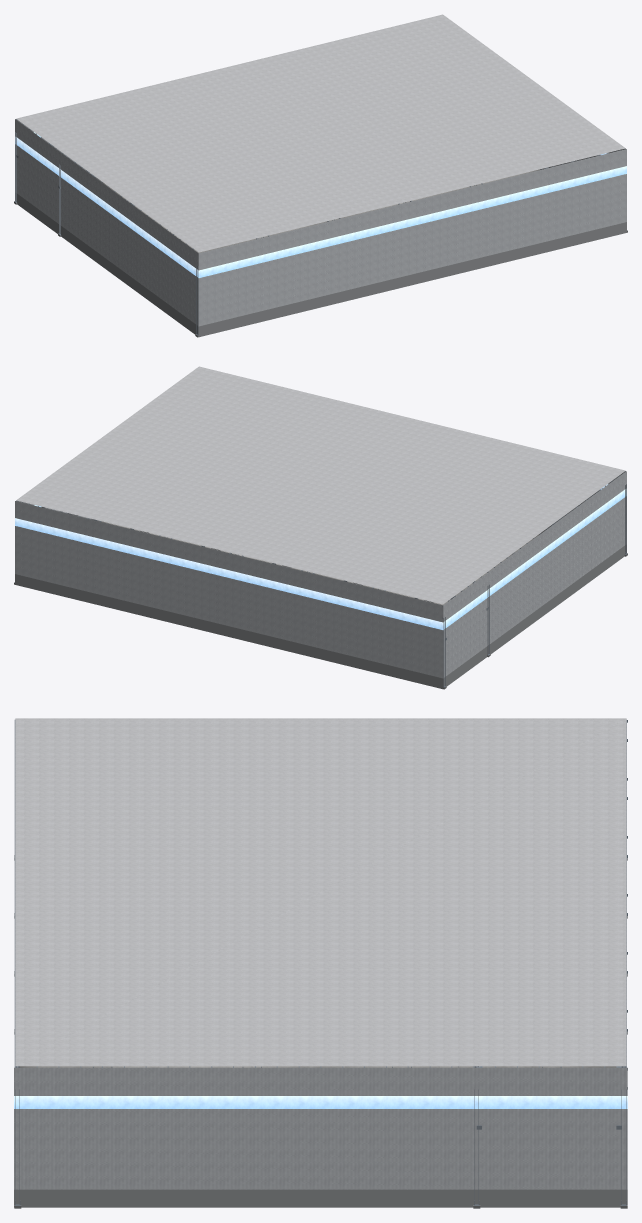
File: galpao_edge_city.glb
The picture shows the model from 3 angles, top to bottom: view 1: azimuth 30°, elevation 25°; view 2: azimuth 150°, elevation 25°; view 3: azimuth 270°, elevation 25°; orthographic projection. The views are drawn at different scales.
Parts seen in each view (by area): view 1: Galpao_Cobertura, Galpao_Paredes, Galpao_Concreto, Galpao_Janelas, Galpao_Estrutura, Galpao_Piso; view 2: Galpao_Cobertura, Galpao_Paredes, Galpao_Concreto, Galpao_Janelas, Galpao_Estrutura, Galpao_Piso; view 3: Galpao_Cobertura, Galpao_Paredes, Galpao_Concreto, Galpao_Janelas, Galpao_Estrutura, Galpao_Piso.
Part boxes in pixels (<box>): Galpao_Cobertura: <box>16,14,625,252</box>; Galpao_Paredes: <box>15,119,626,326</box>; Galpao_Concreto: <box>14,167,627,337</box>; Galpao_Janelas: <box>15,132,626,277</box>; Galpao_Estrutura: <box>15,119,624,334</box>; Galpao_Piso: <box>102,169,539,253</box>; Galpao_Cobertura: <box>16,366,625,604</box>; Galpao_Paredes: <box>15,471,626,678</box>; Galpao_Concreto: <box>14,519,627,689</box>; Galpao_Janelas: <box>15,484,626,629</box>; Galpao_Estrutura: <box>17,471,626,686</box>; Galpao_Piso: <box>102,521,539,605</box>; Galpao_Cobertura: <box>15,718,626,1066</box>; Galpao_Paredes: <box>14,1067,627,1189</box>; Galpao_Concreto: <box>14,855,627,1208</box>; Galpao_Janelas: <box>14,1096,627,1108</box>; Galpao_Estrutura: <box>14,720,626,1204</box>; Galpao_Piso: <box>20,1066,616,1067</box>.
Size of the model in its own units: 133 by 24.92 by 98.43.
13 materials, 4 textured.
